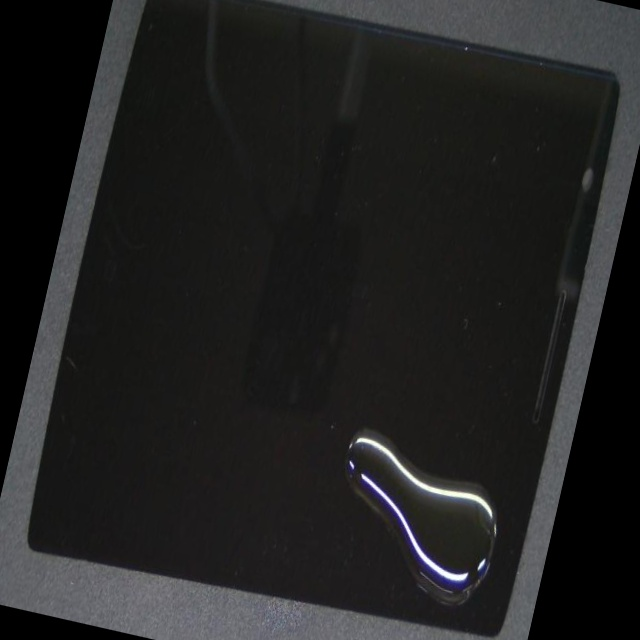oil: (209, 283, 593, 640)
